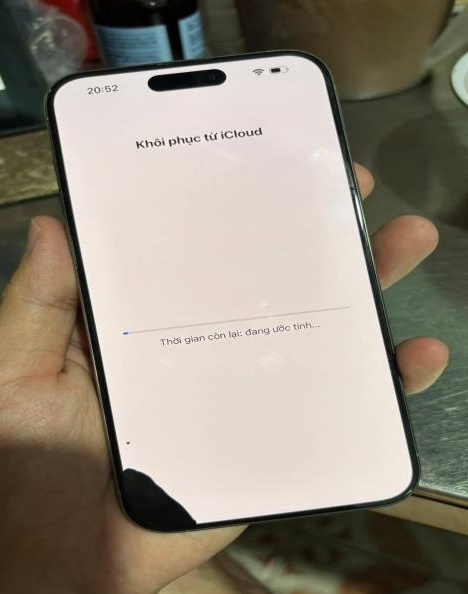screen_defect: (121, 466, 197, 530), (124, 438, 131, 446)
